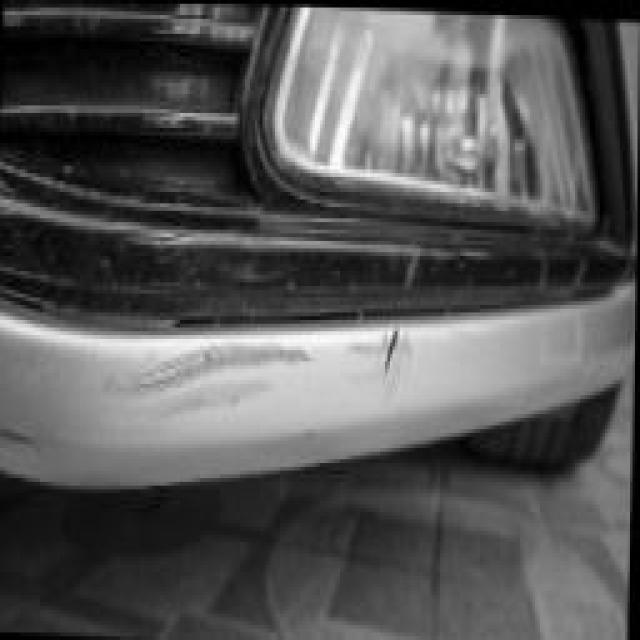Bumper: (0, 196, 588, 564)
